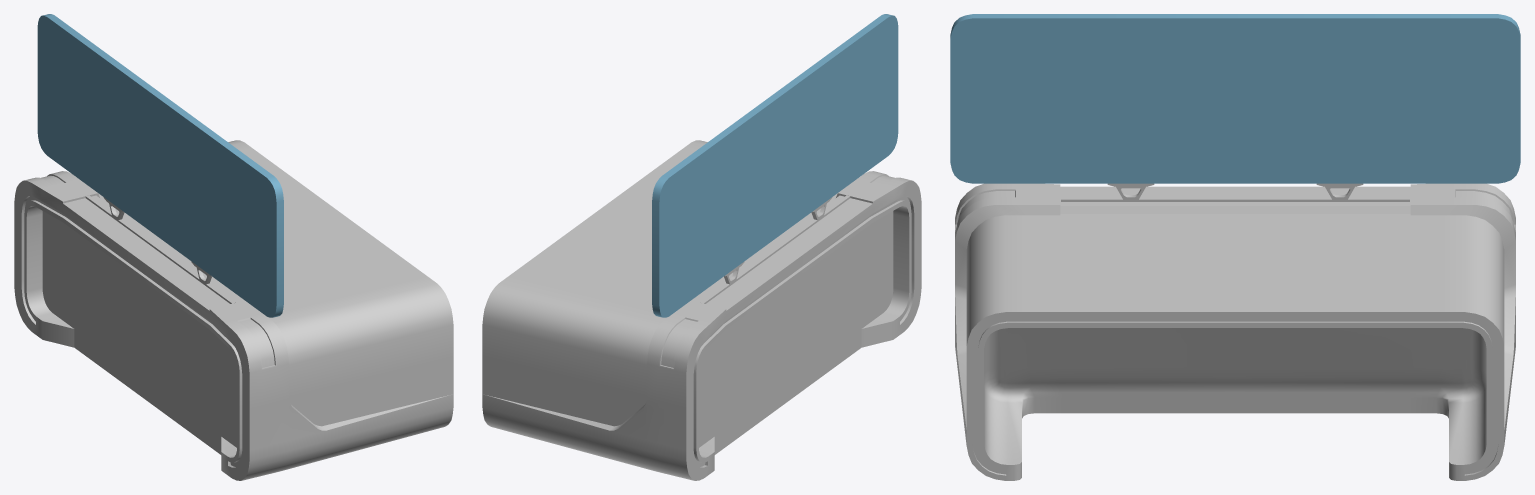
The model's file is estacao.obj.
The picture shows the model from 3 angles, left to right: view 1: azimuth 30°, elevation 25°; view 2: azimuth 150°, elevation 25°; view 3: azimuth 270°, elevation 25°; orthographic projection. The views are drawn at different scales.
Visible parts, largest first — view 1: table, hologram_glass; view 2: table, hologram_glass; view 3: table, hologram_glass.
Part boxes in pixels (x1,y1,x2,y2): table: [14, 140, 453, 480]; hologram_glass: [37, 14, 283, 317]; table: [482, 140, 921, 480]; hologram_glass: [652, 14, 898, 317]; table: [955, 183, 1515, 480]; hologram_glass: [950, 14, 1520, 183].
Size of the model in its own units: 1.02 by 1.41 by 2.02.
